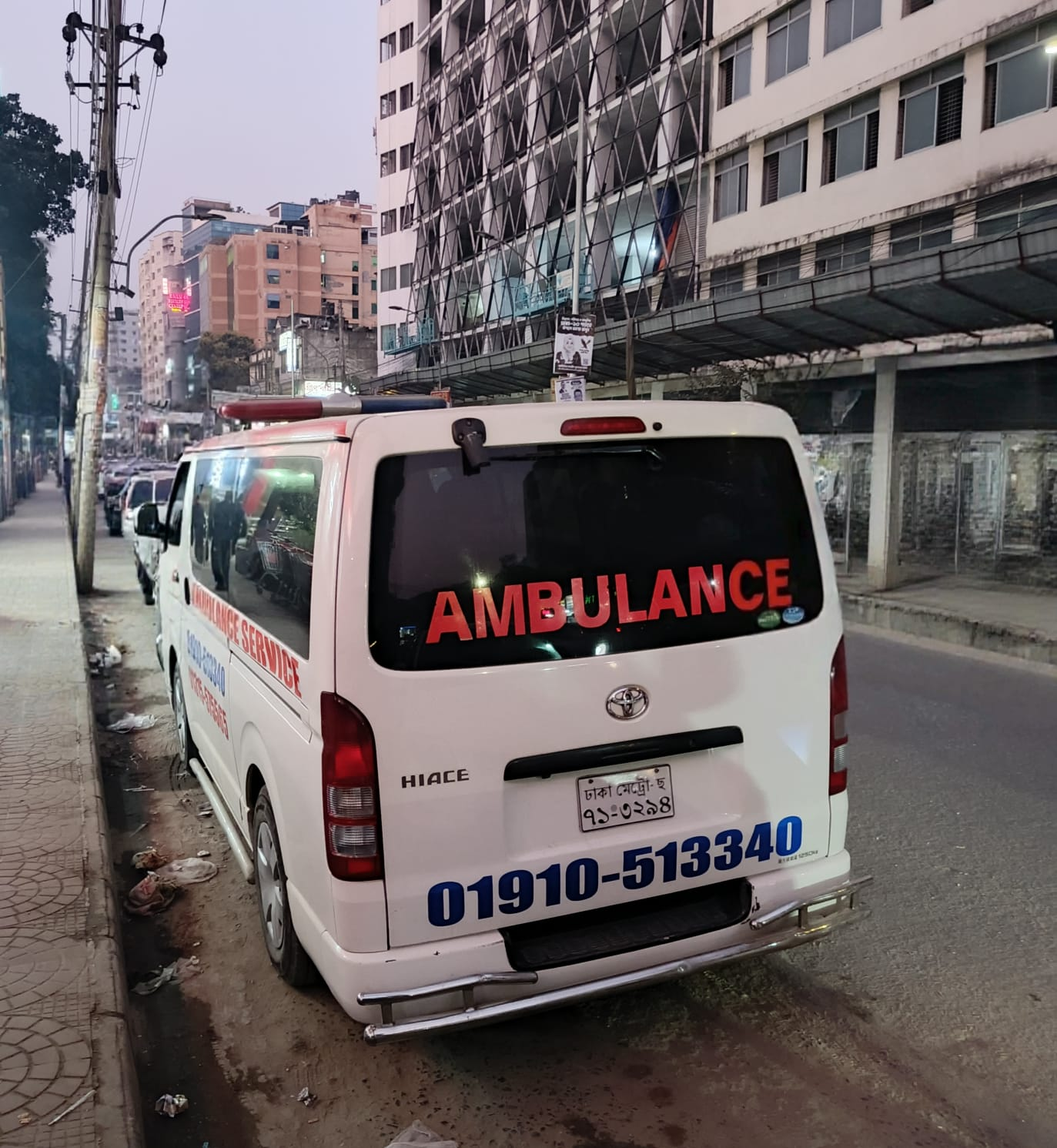Ambulance: (149, 357, 884, 1031)
private car: (110, 432, 176, 535)
